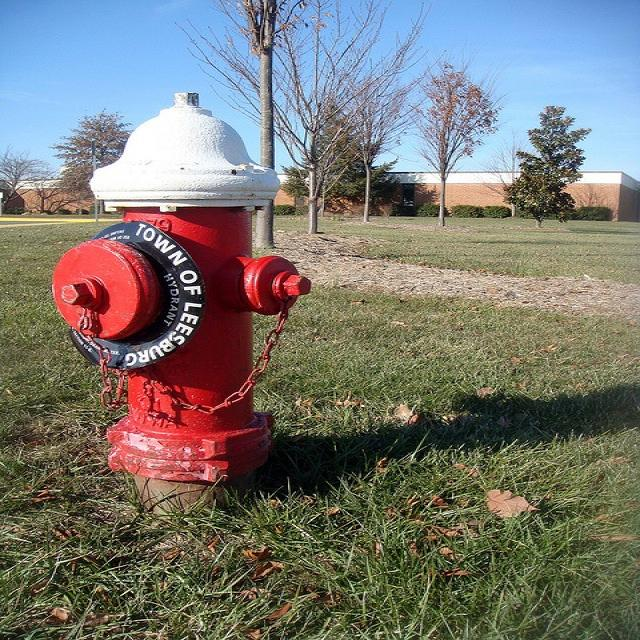fire_hydrant: (51, 89, 305, 514)
